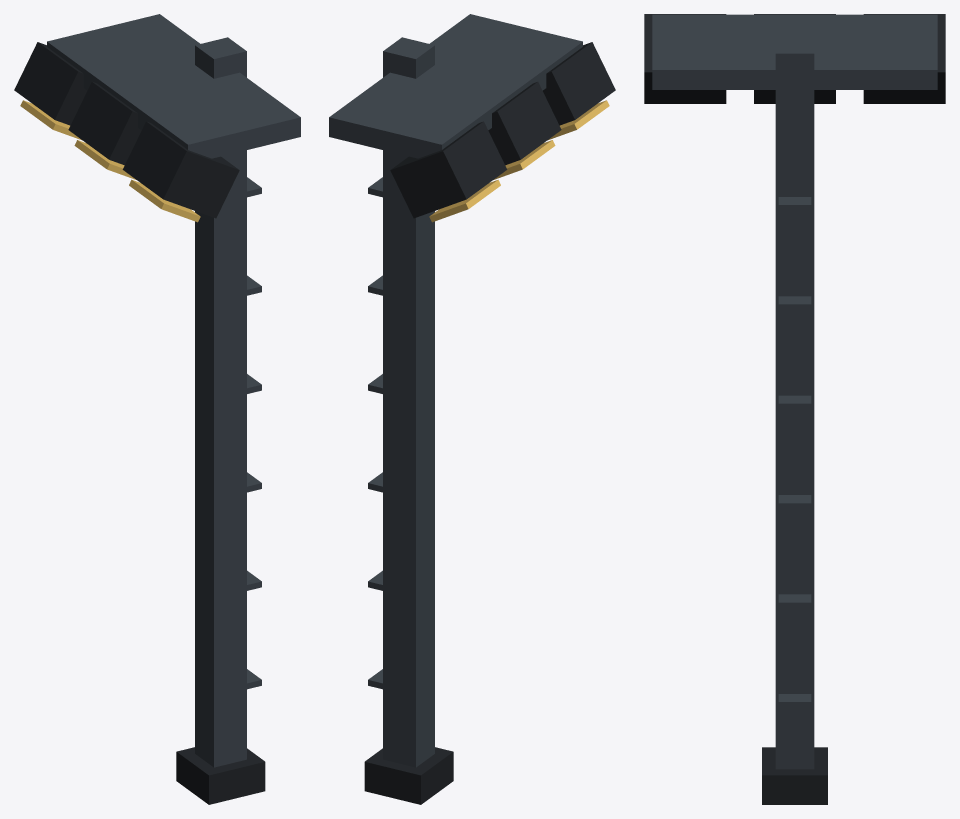
File: env_carrier_floodmast.fbx
The picture shows the model from 3 angles, left to right: view 1: azimuth 30°, elevation 25°; view 2: azimuth 150°, elevation 25°; view 3: azimuth 270°, elevation 25°; orthographic projection.
Visible parts, largest first — view 1: env_carrier_floodmast; view 2: env_carrier_floodmast; view 3: env_carrier_floodmast.
Part boxes in pixels (left/top/right/bottom): env_carrier_floodmast: left=14, top=14, right=300, bottom=804; env_carrier_floodmast: left=329, top=14, right=615, bottom=804; env_carrier_floodmast: left=644, top=14, right=945, bottom=804.
Bounding box in the file's own units: 351 × 1500 × 550.
